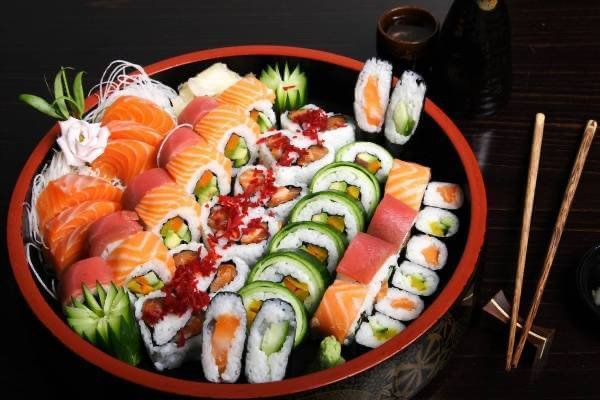sushi: (28, 55, 487, 391)
